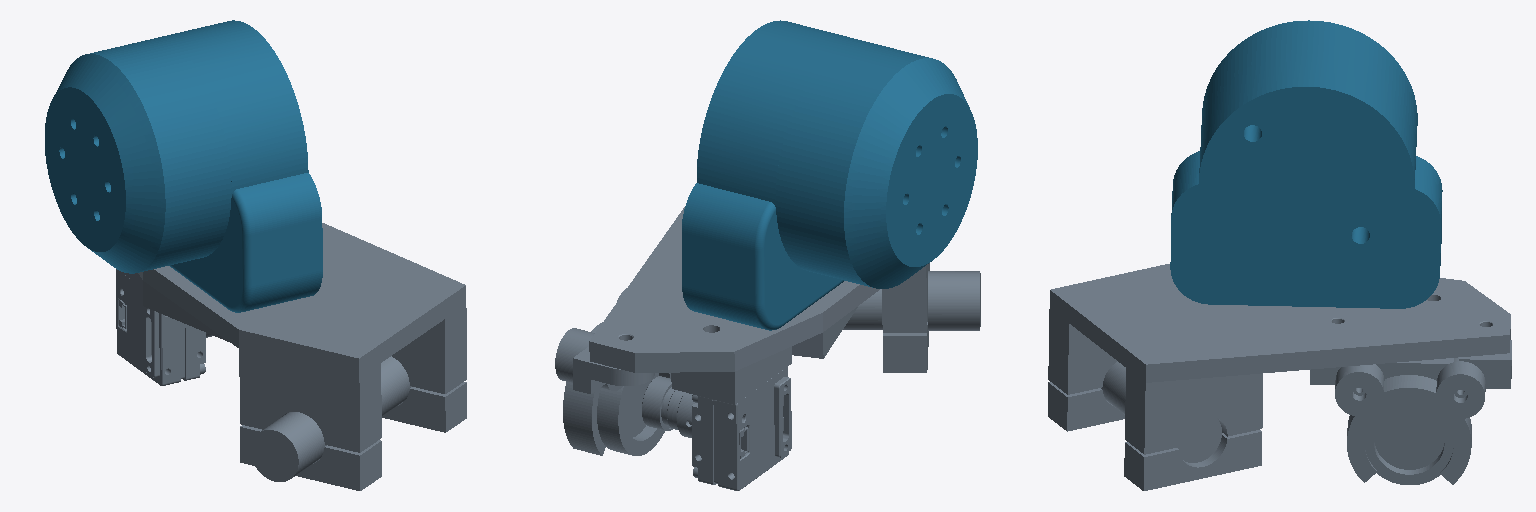
The robot description file, URDF, robot "yam":
<?xml version='1.0' encoding='utf-8'?>
<robot name="yam">
  <link name="base">
    <inertial>
      <mass value="0.873654" />
      <origin xyz="-3.83908653914762e-05 2.40068589826393e-05 0.0247677998591499" rpy="0 1.5708 3.1415963267949" />
      <inertia ixx="0.00157059" ixy="-9.4753e-07" ixz="2.04071e-07" iyy="0.000678307" iyz="2.44292e-07" izz="0.00169404" />
    </inertial>
    <visual>
      <origin xyz="0.0374957408313106 0.0464006377298596 0.187501137731438" rpy="0 1.5708 3.1415963267949" />
      <geometry>
        <mesh filename="../../vendor/i2rt/i2rt/robot_models/arm/yam/v1/assets/base.stl" scale="1 1 1" />
      </geometry>
      <material name="0.317647_0.121569_0.498039_0.000000_0.000000">
        <color rgba="0.317647 0.121569 0.498039 1" />
      </material>
    </visual>
  </link>
  <link name="gripper">
    </link>
  <link name="link1">
    <inertial>
      <mass value="0.101218" />
      <origin xyz="-0.0233636 -0.00172503 -0.00727828" rpy="0 -0 0" />
      <inertia ixx="0.000114689" ixy="-4.62759e-06" ixz="-1.3427e-05" iyy="4.76603e-05" iyz="-2.58724e-06" izz="0.000125996" />
    </inertial>
    <visual>
      <origin xyz="-0.119501 -0.0464 -0.0374968" rpy="0 -0 0" />
      <geometry>
        <mesh filename="../../vendor/i2rt/i2rt/robot_models/arm/yam/v1/assets/link1.stl" scale="1 1 1" />
      </geometry>
      <material name="0.725490_0.450980_0.317647_0.000000_0.000000">
        <color rgba="0.72549 0.45098 0.317647 1" />
      </material>
    </visual>
  </link>
  <link name="link2">
    <inertial>
      <mass value="1.46908" />
      <origin xyz="0.000134495 -0.0331253 0.129165" rpy="0 -0 0" />
      <inertia ixx="0.0146686" ixy="-1.1067e-08" ixz="-4.33007e-07" iyy="0.014599" iyz="3.12564e-06" izz="0.000800089" />
    </inertial>
    <visual>
      <origin xyz="-0.0740001 -0.08025 -0.0174977" rpy="0 -0 0" />
      <geometry>
        <mesh filename="../../vendor/i2rt/i2rt/robot_models/arm/yam/v1/assets/link2.stl" scale="1 1 1" />
      </geometry>
      <material name="0.000000_0.400000_0.600000_0.000000_0.000000">
        <color rgba="0 0.4 0.6 1" />
      </material>
    </visual>
  </link>
  <link name="link3">
    <inertial>
      <mass value="0.982553" />
      <origin xyz="-0.0556042 -0.0340514 -0.135083" rpy="0 -0 0" />
      <inertia ixx="0.00758945" ixy="4.36076e-06" ixz="-0.00064069" iyy="0.00763097" iyz="-1.09984e-05" izz="0.000937606" />
    </inertial>
    <visual>
      <origin xyz="-0.0740003 -0.0813 -0.281499" rpy="0 -0 0" />
      <geometry>
        <mesh filename="../../vendor/i2rt/i2rt/robot_models/arm/yam/v1/assets/link3.stl" scale="1 1 1" />
      </geometry>
      <material name="0.552941_0.580392_0.203922_0.000000_0.000000">
        <color rgba="0.552941 0.580392 0.203922 1" />
      </material>
    </visual>
  </link>
  <link name="link4">
    <inertial>
      <mass value="0.462165" />
      <origin xyz="-0.0550959 0.032726 -0.0575534" rpy="0 -0 0" />
      <inertia ixx="0.000473594" ixy="3.00819e-05" ixz="-0.000238801" iyy="0.000764022" iyz="2.9261e-05" izz="0.000604492" />
    </inertial>
    <visual>
      <origin xyz="-0.0140003 -0.0125 -0.0364989" rpy="0 -0 0" />
      <geometry>
        <mesh filename="../../vendor/i2rt/i2rt/robot_models/arm/yam/v1/assets/link4.stl" scale="1 1 1" />
      </geometry>
      <material name="0.545098_0.525490_0.419608_0.000000_0.000000">
        <color rgba="0.545098 0.52549 0.419608 1" />
      </material>
    </visual>
  </link>
  <link name="link5">
    <inertial>
      <mass value="0.403307" />
      <origin xyz="0.0375847 -3.55003e-05 -0.000825911" rpy="0 -0 0" />
      <inertia ixx="0.000184284" ixy="2.10549e-07" ixz="1.29173e-05" iyy="0.000219791" iyz="-3.49657e-07" izz="0.000181053" />
    </inertial>
    <visual>
      <origin xyz="0.0265 -0.0463995 0.0375" rpy="0 -0 0" />
      <geometry>
        <mesh filename="../../vendor/i2rt/i2rt/robot_models/arm/yam/v1/assets/link5.stl" scale="1 1 1" />
      </geometry>
      <material name="0.827451_0.623529_0.784314_0.000000_0.000000">
        <color rgba="0.827451 0.623529 0.784314 1" />
      </material>
    </visual>
  </link>
  <joint name="joint1" type="revolute">
    <origin xyz="-2.49777947129965e-07 -9.17402363407408e-13 0.0679999999995413" rpy="0 1.5708 3.1415963267949" />
    <axis xyz="-1 0 0" />
    <parent link="base" />
    <child link="link1" />
    <limit effort="1" velocity="1" lower="-2.61799" upper="3.14159" />
  </joint>
  <joint name="joint2" type="revolute">
    <origin xyz="-0.0455 -0.0339 -0.02" rpy="-1.7953e-16 5.55112e-17 -3.14159" />
    <axis xyz="3.58252e-15 1 -3.2007e-16" />
    <parent link="link1" />
    <child link="link2" />
    <limit effort="1" velocity="1" lower="-8.88178e-16" upper="3.66519" />
  </joint>
  <joint name="joint3" type="revolute">
    <origin xyz="4.08431e-07 -0.0688 0.264" rpy="-2.99502e-14 -1.6015e-14 -3.14159" />
    <axis xyz="4.54273e-15 1 1.04275e-14" />
    <parent link="link2" />
    <child link="link3" />
    <limit effort="1" velocity="1" lower="0" upper="3.14159" />
  </joint>
  <joint name="joint4" type="revolute">
    <origin xyz="-0.0600003 -0.0688 -0.244999" rpy="2.95536e-14 8.52374e-14 -2.10585e-14" />
    <axis xyz="0 1 0" />
    <parent link="link3" />
    <child link="link4" />
    <limit effort="1" velocity="1" lower="-1.69297" upper="1.5708" />
  </joint>
  <joint name="joint5" type="revolute">
    <origin xyz="-0.0405003 0.0338995 -0.0739989" rpy="2.73264e-14 -4.32956e-16 -8.32667e-17" />
    <axis xyz="1 0 0" />
    <parent link="link4" />
    <child link="link5" />
    <limit effort="1" velocity="1" lower="-1.5708" upper="1.5708" />
  </joint>
  <joint name="joint6" type="revolute">
    <origin xyz="0.0404996 2.39858e-07 -0.0356" rpy="8.83309e-16 -5.88588e-16 7.69861e-14" />
    <axis xyz="1.46014e-15 2.40808e-14 -1" />
    <parent link="link5" />
    <child link="gripper" />
    <limit effort="1" velocity="1" lower="-5.3726054547144" upper="-2.0871488750331" />
  </joint>
  <link name="mount_0">
    <visual>
      <geometry>
        <mesh filename="meshes/00_receiver_receiver_body.stl" scale="0.001 0.001 0.001" />
      </geometry>
      <material name="mount_material">
        <color rgba="0.21 0.49 0.62 1" />
      </material>
    </visual>
  </link>
  <joint name="mount_0_fixed" type="fixed">
    <parent link="gripper" />
    <child link="mount_0" />
    <origin xyz="0 0 0" rpy="5.551115123125783e-17 0.0193916537021086 0.9984603308480582" />
  </joint>
  <link name="mount_1">
    <visual>
      <geometry>
        <mesh filename="meshes/01_camera_carrier_parked_camera_carrier_body.stl" scale="0.001 0.001 0.001" />
      </geometry>
      <material name="mount_material">
        <color rgba="0.21 0.49 0.62 1" />
      </material>
    </visual>
  </link>
  <joint name="mount_1_fixed" type="fixed">
    <parent link="gripper" />
    <child link="mount_1" />
    <origin xyz="0 0 0" rpy="5.551115123125783e-17 0.0193916537021086 0.9984603308480582" />
  </joint>
  <link name="mount_2">
    <visual>
      <geometry>
        <mesh filename="meshes/02_camera_reference_parked_optical_head_1.stl" scale="0.001 0.001 0.001" />
      </geometry>
      <material name="mount_material">
        <color rgba="0.5 0.55 0.6 1" />
      </material>
    </visual>
  </link>
  <joint name="mount_2_fixed" type="fixed">
    <parent link="gripper" />
    <child link="mount_2" />
    <origin xyz="0 0 0" rpy="5.551115123125783e-17 0.0193916537021086 0.9984603308480582" />
  </joint>
  <link name="mount_3">
    <visual>
      <geometry>
        <mesh filename="meshes/03_camera_reference_parked_optical_head_2.stl" scale="0.001 0.001 0.001" />
      </geometry>
      <material name="mount_material">
        <color rgba="0.5 0.55 0.6 1" />
      </material>
    </visual>
  </link>
  <joint name="mount_3_fixed" type="fixed">
    <parent link="gripper" />
    <child link="mount_3" />
    <origin xyz="0 0 0" rpy="5.551115123125783e-17 0.0193916537021086 0.9984603308480582" />
  </joint>
  <link name="mount_4">
    <visual>
      <geometry>
        <mesh filename="meshes/04_camera_reference_parked_optical_head_3.stl" scale="0.001 0.001 0.001" />
      </geometry>
      <material name="mount_material">
        <color rgba="0.5 0.55 0.6 1" />
      </material>
    </visual>
  </link>
  <joint name="mount_4_fixed" type="fixed">
    <parent link="gripper" />
    <child link="mount_4" />
    <origin xyz="0 0 0" rpy="5.551115123125783e-17 0.0193916537021086 0.9984603308480582" />
  </joint>
  <link name="mount_5">
    <visual>
      <geometry>
        <mesh filename="meshes/05_camera_reference_parked_optical_head_4.stl" scale="0.001 0.001 0.001" />
      </geometry>
      <material name="mount_material">
        <color rgba="0.5 0.55 0.6 1" />
      </material>
    </visual>
  </link>
  <joint name="mount_5_fixed" type="fixed">
    <parent link="gripper" />
    <child link="mount_5" />
    <origin xyz="0 0 0" rpy="5.551115123125783e-17 0.0193916537021086 0.9984603308480582" />
  </joint>
  <link name="mount_6">
    <visual>
      <geometry>
        <mesh filename="meshes/06_camera_reference_parked_optical_head_5.stl" scale="0.001 0.001 0.001" />
      </geometry>
      <material name="mount_material">
        <color rgba="0.5 0.55 0.6 1" />
      </material>
    </visual>
  </link>
  <joint name="mount_6_fixed" type="fixed">
    <parent link="gripper" />
    <child link="mount_6" />
    <origin xyz="0 0 0" rpy="5.551115123125783e-17 0.0193916537021086 0.9984603308480582" />
  </joint>
  <link name="mount_7">
    <visual>
      <geometry>
        <mesh filename="meshes/07_camera_reference_parked_optical_head_6.stl" scale="0.001 0.001 0.001" />
      </geometry>
      <material name="mount_material">
        <color rgba="0.5 0.55 0.6 1" />
      </material>
    </visual>
  </link>
  <joint name="mount_7_fixed" type="fixed">
    <parent link="gripper" />
    <child link="mount_7" />
    <origin xyz="0 0 0" rpy="5.551115123125783e-17 0.0193916537021086 0.9984603308480582" />
  </joint>
  <link name="mount_8">
    <visual>
      <geometry>
        <mesh filename="meshes/08_camera_reference_parked_optical_head_7.stl" scale="0.001 0.001 0.001" />
      </geometry>
      <material name="mount_material">
        <color rgba="0.5 0.55 0.6 1" />
      </material>
    </visual>
  </link>
  <joint name="mount_8_fixed" type="fixed">
    <parent link="gripper" />
    <child link="mount_8" />
    <origin xyz="0 0 0" rpy="5.551115123125783e-17 0.0193916537021086 0.9984603308480582" />
  </joint>
  <link name="mount_9">
    <visual>
      <geometry>
        <mesh filename="meshes/09_camera_reference_parked_optical_head_8.stl" scale="0.001 0.001 0.001" />
      </geometry>
      <material name="mount_material">
        <color rgba="0.5 0.55 0.6 1" />
      </material>
    </visual>
  </link>
  <joint name="mount_9_fixed" type="fixed">
    <parent link="gripper" />
    <child link="mount_9" />
    <origin xyz="0 0 0" rpy="5.551115123125783e-17 0.0193916537021086 0.9984603308480582" />
  </joint>
  <link name="mount_10">
    <visual>
      <geometry>
        <mesh filename="meshes/10_camera_reference_parked_optical_head_9.stl" scale="0.001 0.001 0.001" />
      </geometry>
      <material name="mount_material">
        <color rgba="0.5 0.55 0.6 1" />
      </material>
    </visual>
  </link>
  <joint name="mount_10_fixed" type="fixed">
    <parent link="gripper" />
    <child link="mount_10" />
    <origin xyz="0 0 0" rpy="5.551115123125783e-17 0.0193916537021086 0.9984603308480582" />
  </joint>
  <link name="mount_11">
    <visual>
      <geometry>
        <mesh filename="meshes/11_camera_reference_parked_optical_head_10.stl" scale="0.001 0.001 0.001" />
      </geometry>
      <material name="mount_material">
        <color rgba="0.5 0.55 0.6 1" />
      </material>
    </visual>
  </link>
  <joint name="mount_11_fixed" type="fixed">
    <parent link="gripper" />
    <child link="mount_11" />
    <origin xyz="0 0 0" rpy="5.551115123125783e-17 0.0193916537021086 0.9984603308480582" />
  </joint>
  <link name="mount_12">
    <visual>
      <geometry>
        <mesh filename="meshes/12_camera_reference_parked_optical_head_11.stl" scale="0.001 0.001 0.001" />
      </geometry>
      <material name="mount_material">
        <color rgba="0.5 0.55 0.6 1" />
      </material>
    </visual>
  </link>
  <joint name="mount_12_fixed" type="fixed">
    <parent link="gripper" />
    <child link="mount_12" />
    <origin xyz="0 0 0" rpy="5.551115123125783e-17 0.0193916537021086 0.9984603308480582" />
  </joint>
  <link name="mount_13">
    <visual>
      <geometry>
        <mesh filename="meshes/13_camera_reference_parked_optical_head_12.stl" scale="0.001 0.001 0.001" />
      </geometry>
      <material name="mount_material">
        <color rgba="0.5 0.55 0.6 1" />
      </material>
    </visual>
  </link>
  <joint name="mount_13_fixed" type="fixed">
    <parent link="gripper" />
    <child link="mount_13" />
    <origin xyz="0 0 0" rpy="5.551115123125783e-17 0.0193916537021086 0.9984603308480582" />
  </joint>
  <link name="mount_14">
    <visual>
      <geometry>
        <mesh filename="meshes/14_camera_reference_parked_optical_head_13.stl" scale="0.001 0.001 0.001" />
      </geometry>
      <material name="mount_material">
        <color rgba="0.5 0.55 0.6 1" />
      </material>
    </visual>
  </link>
  <joint name="mount_14_fixed" type="fixed">
    <parent link="gripper" />
    <child link="mount_14" />
    <origin xyz="0 0 0" rpy="5.551115123125783e-17 0.0193916537021086 0.9984603308480582" />
  </joint>
  <link name="mount_15">
    <visual>
      <geometry>
        <mesh filename="meshes/15_camera_reference_parked_optical_head_14.stl" scale="0.001 0.001 0.001" />
      </geometry>
      <material name="mount_material">
        <color rgba="0.5 0.55 0.6 1" />
      </material>
    </visual>
  </link>
  <joint name="mount_15_fixed" type="fixed">
    <parent link="gripper" />
    <child link="mount_15" />
    <origin xyz="0 0 0" rpy="5.551115123125783e-17 0.0193916537021086 0.9984603308480582" />
  </joint>
  <link name="mount_16">
    <visual>
      <geometry>
        <mesh filename="meshes/16_camera_reference_parked_optical_head_15.stl" scale="0.001 0.001 0.001" />
      </geometry>
      <material name="mount_material">
        <color rgba="0.5 0.55 0.6 1" />
      </material>
    </visual>
  </link>
  <joint name="mount_16_fixed" type="fixed">
    <parent link="gripper" />
    <child link="mount_16" />
    <origin xyz="0 0 0" rpy="5.551115123125783e-17 0.0193916537021086 0.9984603308480582" />
  </joint>
  <link name="mount_17">
    <visual>
      <geometry>
        <mesh filename="meshes/17_camera_reference_parked_optical_head_16.stl" scale="0.001 0.001 0.001" />
      </geometry>
      <material name="mount_material">
        <color rgba="0.5 0.55 0.6 1" />
      </material>
    </visual>
  </link>
  <joint name="mount_17_fixed" type="fixed">
    <parent link="gripper" />
    <child link="mount_17" />
    <origin xyz="0 0 0" rpy="5.551115123125783e-17 0.0193916537021086 0.9984603308480582" />
  </joint>
  <link name="mount_18">
    <visual>
      <geometry>
        <mesh filename="meshes/18_camera_reference_parked_optical_head_17.stl" scale="0.001 0.001 0.001" />
      </geometry>
      <material name="mount_material">
        <color rgba="0.5 0.55 0.6 1" />
      </material>
    </visual>
  </link>
  <joint name="mount_18_fixed" type="fixed">
    <parent link="gripper" />
    <child link="mount_18" />
    <origin xyz="0 0 0" rpy="5.551115123125783e-17 0.0193916537021086 0.9984603308480582" />
  </joint>
  <link name="mount_19">
    <visual>
      <geometry>
        <mesh filename="meshes/19_camera_reference_parked_optical_head_18.stl" scale="0.001 0.001 0.001" />
      </geometry>
      <material name="mount_material">
        <color rgba="0.5 0.55 0.6 1" />
      </material>
    </visual>
  </link>
  <joint name="mount_19_fixed" type="fixed">
    <parent link="gripper" />
    <child link="mount_19" />
    <origin xyz="0 0 0" rpy="5.551115123125783e-17 0.0193916537021086 0.9984603308480582" />
  </joint>
  <link name="mount_20">
    <visual>
      <geometry>
        <mesh filename="meshes/20_camera_reference_parked_optical_head_19.stl" scale="0.001 0.001 0.001" />
      </geometry>
      <material name="mount_material">
        <color rgba="0.5 0.55 0.6 1" />
      </material>
    </visual>
  </link>
  <joint name="mount_20_fixed" type="fixed">
    <parent link="gripper" />
    <child link="mount_20" />
    <origin xyz="0 0 0" rpy="5.551115123125783e-17 0.0193916537021086 0.9984603308480582" />
  </joint>
  <link name="mount_21">
    <visual>
      <geometry>
        <mesh filename="meshes/21_camera_reference_parked_optical_head_20.stl" scale="0.001 0.001 0.001" />
      </geometry>
      <material name="mount_material">
        <color rgba="0.5 0.55 0.6 1" />
      </material>
    </visual>
  </link>
  <joint name="mount_21_fixed" type="fixed">
    <parent link="gripper" />
    <child link="mount_21" />
    <origin xyz="0 0 0" rpy="5.551115123125783e-17 0.0193916537021086 0.9984603308480582" />
  </joint>
  <link name="mount_22">
    <visual>
      <geometry>
        <mesh filename="meshes/22_camera_reference_parked_optical_head_21.stl" scale="0.001 0.001 0.001" />
      </geometry>
      <material name="mount_material">
        <color rgba="0.5 0.55 0.6 1" />
      </material>
    </visual>
  </link>
  <joint name="mount_22_fixed" type="fixed">
    <parent link="gripper" />
    <child link="mount_22" />
    <origin xyz="0 0 0" rpy="5.551115123125783e-17 0.0193916537021086 0.9984603308480582" />
  </joint>
  <link name="mount_23">
    <visual>
      <geometry>
        <mesh filename="meshes/23_camera_reference_parked_optical_head_22.stl" scale="0.001 0.001 0.001" />
      </geometry>
      <material name="mount_material">
        <color rgba="0.5 0.55 0.6 1" />
      </material>
    </visual>
  </link>
  <joint name="mount_23_fixed" type="fixed">
    <parent link="gripper" />
    <child link="mount_23" />
    <origin xyz="0 0 0" rpy="5.551115123125783e-17 0.0193916537021086 0.9984603308480582" />
  </joint>
  <link name="mount_24">
    <visual>
      <geometry>
        <mesh filename="meshes/24_camera_reference_parked_optical_head_23.stl" scale="0.001 0.001 0.001" />
      </geometry>
      <material name="mount_material">
        <color rgba="0.5 0.55 0.6 1" />
      </material>
    </visual>
  </link>
  <joint name="mount_24_fixed" type="fixed">
    <parent link="gripper" />
    <child link="mount_24" />
    <origin xyz="0 0 0" rpy="5.551115123125783e-17 0.0193916537021086 0.9984603308480582" />
  </joint>
  <link name="mount_25">
    <visual>
      <geometry>
        <mesh filename="meshes/25_camera_reference_parked_optical_head_24.stl" scale="0.001 0.001 0.001" />
      </geometry>
      <material name="mount_material">
        <color rgba="0.5 0.55 0.6 1" />
      </material>
    </visual>
  </link>
  <joint name="mount_25_fixed" type="fixed">
    <parent link="gripper" />
    <child link="mount_25" />
    <origin xyz="0 0 0" rpy="5.551115123125783e-17 0.0193916537021086 0.9984603308480582" />
  </joint>
  <link name="mount_26">
    <visual>
      <geometry>
        <mesh filename="meshes/26_camera_reference_parked_optical_head_25.stl" scale="0.001 0.001 0.001" />
      </geometry>
      <material name="mount_material">
        <color rgba="0.5 0.55 0.6 1" />
      </material>
    </visual>
  </link>
  <joint name="mount_26_fixed" type="fixed">
    <parent link="gripper" />
    <child link="mount_26" />
    <origin xyz="0 0 0" rpy="5.551115123125783e-17 0.0193916537021086 0.9984603308480582" />
  </joint>
  <link name="mount_27">
    <visual>
      <geometry>
        <mesh filename="meshes/27_camera_reference_parked_optical_head_26.stl" scale="0.001 0.001 0.001" />
      </geometry>
      <material name="mount_material">
        <color rgba="0.5 0.55 0.6 1" />
      </material>
    </visual>
  </link>
  <joint name="mount_27_fixed" type="fixed">
    <parent link="gripper" />
    <child link="mount_27" />
    <origin xyz="0 0 0" rpy="5.551115123125783e-17 0.0193916537021086 0.9984603308480582" />
  </joint>
  <link name="mount_28">
    <visual>
      <geometry>
        <mesh filename="meshes/28_camera_reference_parked_optical_head_27.stl" scale="0.001 0.001 0.001" />
      </geometry>
      <material name="mount_material">
        <color rgba="0.5 0.55 0.6 1" />
      </material>
    </visual>
  </link>
  <joint name="mount_28_fixed" type="fixed">
    <parent link="gripper" />
    <child link="mount_28" />
    <origin xyz="0 0 0" rpy="5.551115123125783e-17 0.0193916537021086 0.9984603308480582" />
  </joint>
  <link name="mount_29">
    <visual>
      <geometry>
        <mesh filename="meshes/29_camera_reference_parked_optical_head_28.stl" scale="0.001 0.001 0.001" />
      </geometry>
      <material name="mount_material">
        <color rgba="0.5 0.55 0.6 1" />
      </material>
    </visual>
  </link>
  <joint name="mount_29_fixed" type="fixed">
    <parent link="gripper" />
    <child link="mount_29" />
    <origin xyz="0 0 0" rpy="5.551115123125783e-17 0.0193916537021086 0.9984603308480582" />
  </joint>
  <link name="mount_30">
    <visual>
      <geometry>
        <mesh filename="meshes/30_camera_reference_parked_optical_head_29.stl" scale="0.001 0.001 0.001" />
      </geometry>
      <material name="mount_material">
        <color rgba="0.5 0.55 0.6 1" />
      </material>
    </visual>
  </link>
  <joint name="mount_30_fixed" type="fixed">
    <parent link="gripper" />
    <child link="mount_30" />
    <origin xyz="0 0 0" rpy="5.551115123125783e-17 0.0193916537021086 0.9984603308480582" />
  </joint>
  <link name="mount_31">
    <visual>
      <geometry>
        <mesh filename="meshes/31_camera_reference_parked_optical_head_30.stl" scale="0.001 0.001 0.001" />
      </geometry>
      <material name="mount_material">
        <color rgba="0.5 0.55 0.6 1" />
      </material>
    </visual>
  </link>
  <joint name="mount_31_fixed" type="fixed">
    <parent link="gripper" />
    <child link="mount_31" />
    <origin xyz="0 0 0" rpy="5.551115123125783e-17 0.0193916537021086 0.9984603308480582" />
  </joint>
  <link name="camera_optical" />
  <joint name="camera_optical_fixed" type="fixed">
    <parent link="gripper" />
    <child link="camera_optical" />
    <origin xyz="-0.04176705276517634 0.06349556605564009 -0.06939193296909962" rpy="-3.141592653589793 0.0193916537021086 0.9984603308480584" />
  </joint>
  <link name="weld_tcp" />
  <joint name="weld_tcp_fixed" type="fixed">
    <parent link="gripper" />
    <child link="weld_tcp" />
    <origin xyz="-0.06950000000000001 0.03209562859406243 -0.06878251661400001" rpy="3.141592653589793 0 1.570796326794897" />
  </joint>
</robot>

--- Facts derived from the render (not from the file) ---
The picture shows the robot from 3 angles, left to right: view 1: azimuth 30°, elevation 25°; view 2: azimuth 150°, elevation 25°; view 3: azimuth 270°, elevation 25°; orthographic projection.
Model yam with 41 links and 40 joints (6 revolute, 34 fixed), rooted at base, posed all joints at 0 but 1 set to mid-range because 0 is outside their limits (joint6 = -3.73).
Links seen in each view (by area): view 1: mount_31, mount_0, mount_1, mount_22, mount_10, mount_28, mount_29, mount_2; view 2: mount_0, mount_1, mount_31, mount_10, mount_30, mount_22, mount_26, mount_2, mount_28, mount_21, mount_23; view 3: mount_1, mount_31, mount_26, mount_0, mount_29, mount_25, mount_24, mount_22, mount_28, mount_30, mount_27.
Boxes of the visible links, <box> form: mount_31: <box>120,223,466,452</box>; mount_0: <box>45,38,231,273</box>; mount_1: <box>154,20,322,312</box>; mount_22: <box>251,356,411,481</box>; mount_10: <box>116,269,180,385</box>; mount_28: <box>240,425,381,490</box>; mount_29: <box>382,382,466,432</box>; mount_2: <box>183,324,212,380</box>; mount_0: <box>776,41,977,288</box>; mount_1: <box>682,20,861,330</box>; mount_31: <box>589,207,929,404</box>; mount_10: <box>717,367,791,490</box>; mount_30: <box>573,347,670,455</box>; mount_22: <box>843,271,980,330</box>; mount_26: <box>555,288,626,455</box>; mount_2: <box>677,392,716,484</box>; mount_28: <box>883,322,928,372</box>; mount_21: <box>642,376,691,430</box>; mount_23: <box>626,373,658,437</box>; mount_1: <box>1170,51,1442,308</box>; mount_31: <box>1048,264,1510,454</box>; mount_26: <box>1335,361,1485,484</box>; mount_0: <box>1201,20,1417,146</box>; mount_29: <box>1124,430,1261,490</box>; mount_25: <box>1374,411,1444,469</box>; mount_24: <box>1365,404,1453,484</box>; mount_22: <box>1101,361,1221,462</box>; mount_28: <box>1048,382,1124,431</box>; mount_30: <box>1310,340,1511,388</box>; mount_27: <box>1376,362,1449,380</box>.
Size in the robot's own frame: 0.0977 by 0.1378 by 0.1177 metres.
Meshes: 38 distinct files referenced, 31 mesh visuals loaded (31 binary STL); not drawn: 7 (reference not matched to a file when rendering).
